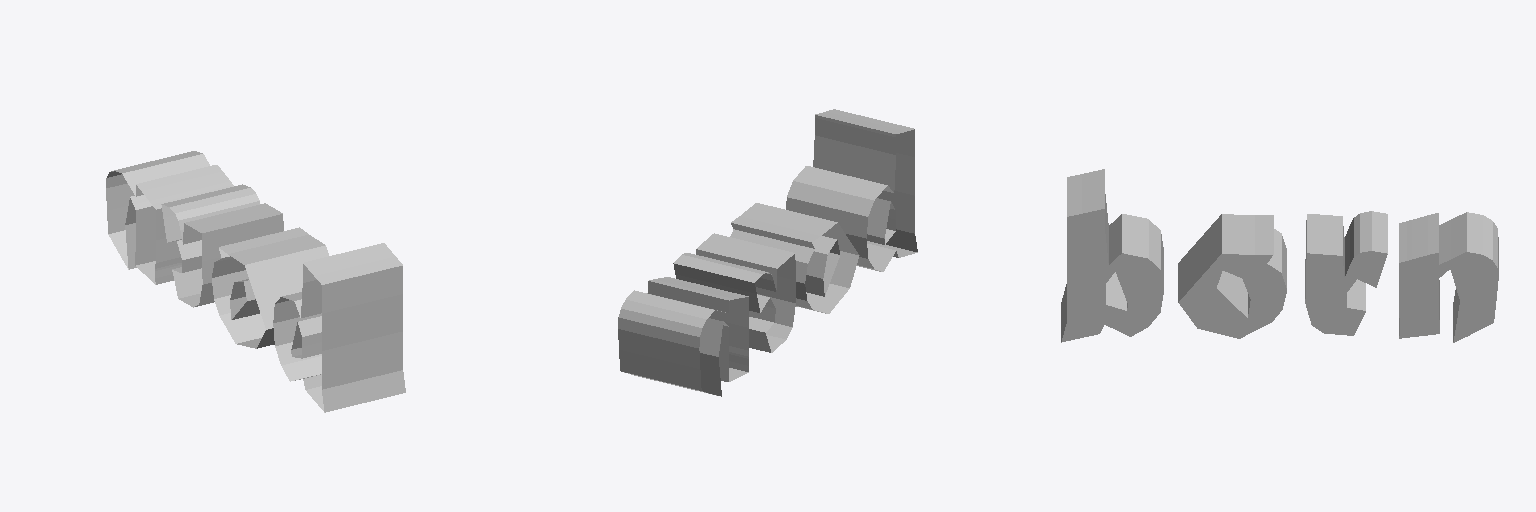
File: typemesh_born.obj
3 views of the same model, side by side, from view 1: azimuth 30°, elevation 25°; view 2: azimuth 150°, elevation 25°; view 3: azimuth 270°, elevation 25° (orthographic).
Visible parts, largest first — view 1: typeMesh_born group2; view 2: typeMesh_born group2; view 3: typeMesh_born group2.
Part boxes in pixels (x1,y1,x2,y2): typeMesh_born group2: (106, 151, 405, 412); typeMesh_born group2: (618, 109, 917, 396); typeMesh_born group2: (1061, 169, 1498, 342).
Size of the model in its own units: 0.135 by 0.2131 by 0.6275.